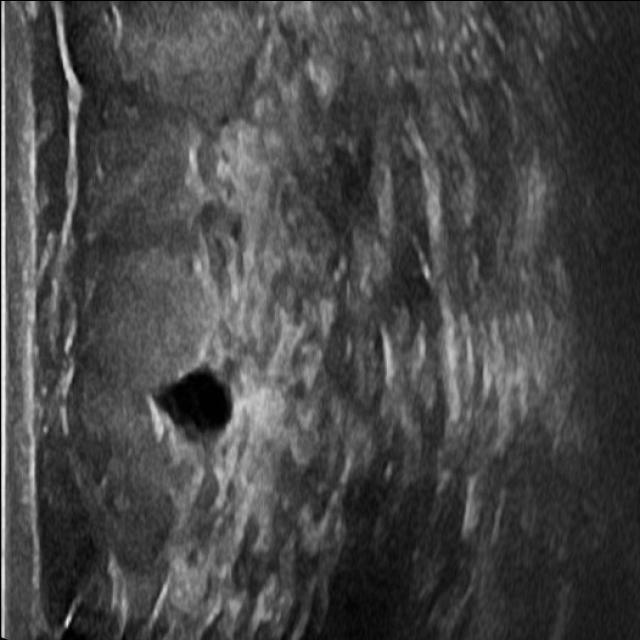Benign: (144, 371, 230, 436)
